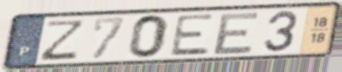0: (125, 14, 174, 60)
3: (262, 9, 300, 54)
7: (90, 16, 127, 61)
E: (211, 10, 262, 56), (168, 12, 218, 57)
Z: (37, 18, 88, 62)
